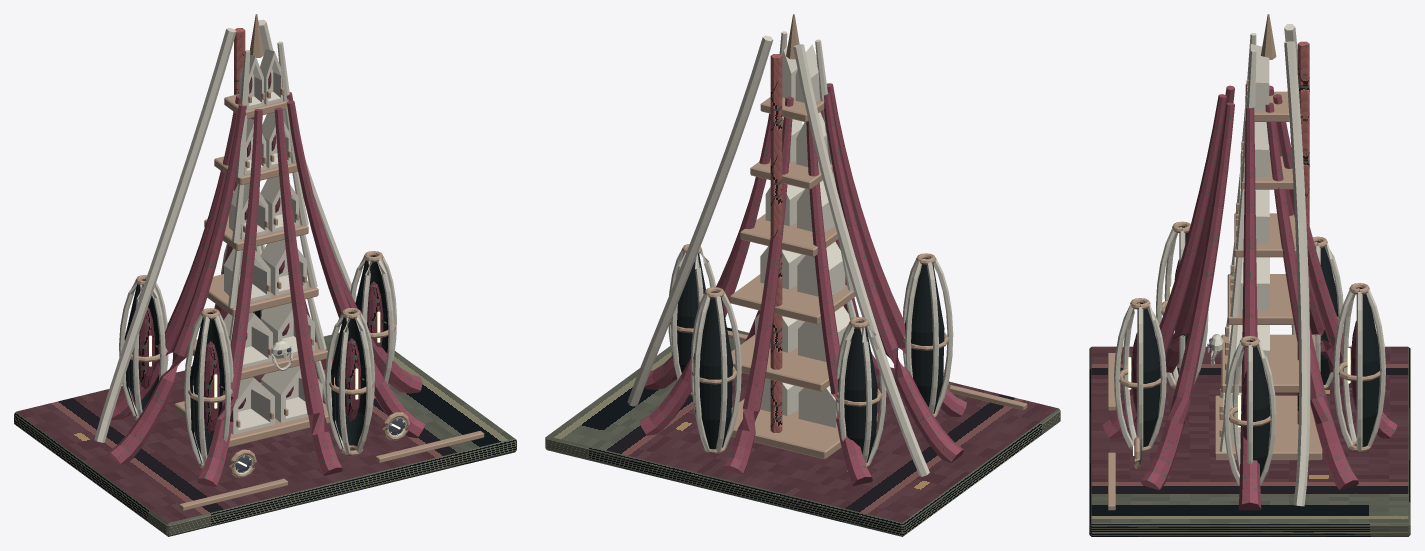
The model's file is heart_tower_cluster.glb.
3 views of the same model, side by side, from view 1: azimuth 30°, elevation 25°; view 2: azimuth 150°, elevation 25°; view 3: azimuth 270°, elevation 25° (orthographic). The views are drawn at different scales.
Visible parts, largest first — view 1: heart_tower_cluster_petrol, heart_tower_cluster_warm, heart_tower_cluster_bruised, heart_tower_cluster_worn, heart_tower_cluster_suture; view 2: heart_tower_cluster_petrol, heart_tower_cluster_warm, heart_tower_cluster_bruised, heart_tower_cluster_worn, heart_tower_cluster_suture; view 3: heart_tower_cluster_petrol, heart_tower_cluster_bruised, heart_tower_cluster_warm, heart_tower_cluster_worn, heart_tower_cluster_suture.
Part boxes in pixels (x1,y1,x2,y2): heart_tower_cluster_petrol: (14,249,516,536); heart_tower_cluster_warm: (94,19,406,474); heart_tower_cluster_bruised: (108,72,425,487); heart_tower_cluster_worn: (130,14,484,510); heart_tower_cluster_suture: (234,28,245,191); heart_tower_cluster_petrol: (545,254,1060,536); heart_tower_cluster_warm: (627,31,953,476); heart_tower_cluster_bruised: (639,83,966,485); heart_tower_cluster_worn: (669,14,1027,467); heart_tower_cluster_suture: (770,54,782,432); heart_tower_cluster_petrol: (1089,226,1410,536); heart_tower_cluster_bruised: (1102,83,1397,510); heart_tower_cluster_warm: (1114,24,1385,506); heart_tower_cluster_worn: (1108,14,1380,510); heart_tower_cluster_suture: (1297,41,1309,424).
Size of the model in its own units: 6.35 by 7.24 by 4.85.
7 materials, 3 textured.
